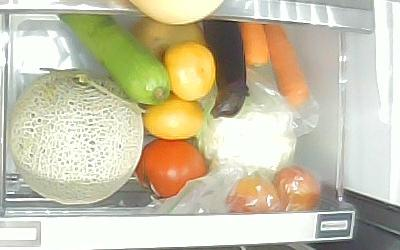cabbage: (198, 89, 298, 184)
carrot: (240, 23, 271, 69)
carrot_vinyl: (264, 23, 310, 108)
eggplant: (202, 19, 247, 119)
melon: (8, 70, 144, 205)
prune_vinyl: (272, 166, 321, 212), (225, 175, 282, 213)
tangerine: (164, 41, 216, 102), (145, 97, 205, 140)
tomato: (136, 139, 210, 202)
zucchini: (55, 13, 171, 106)
